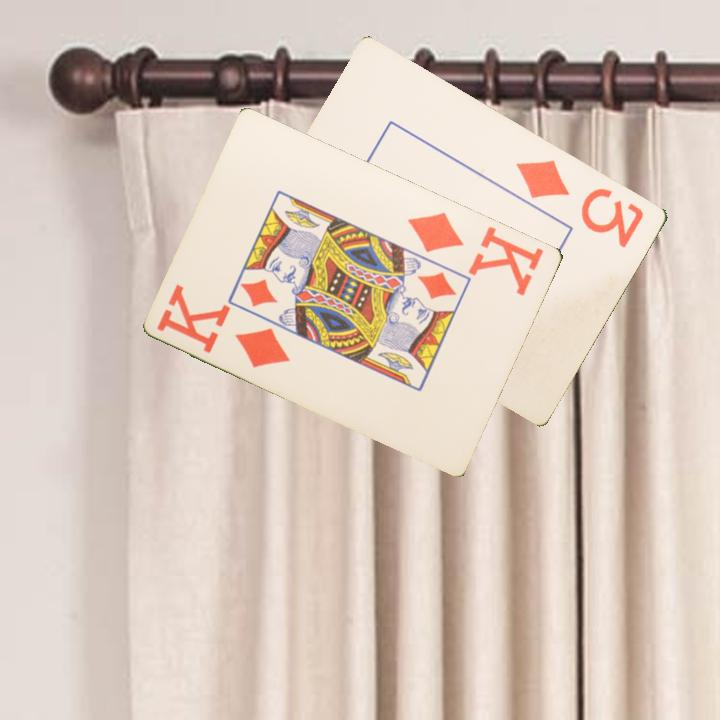3d: (513, 156, 648, 251)
Kd: (404, 207, 547, 299), (153, 281, 294, 371)
